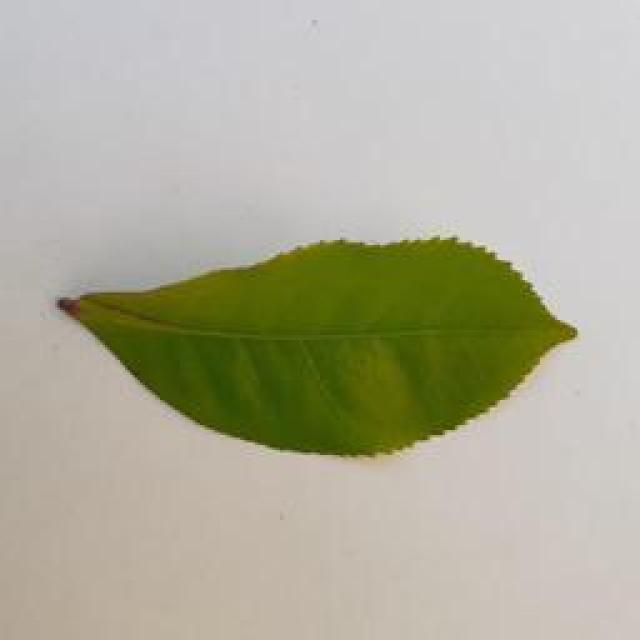Healthy: (39, 201, 599, 479)
